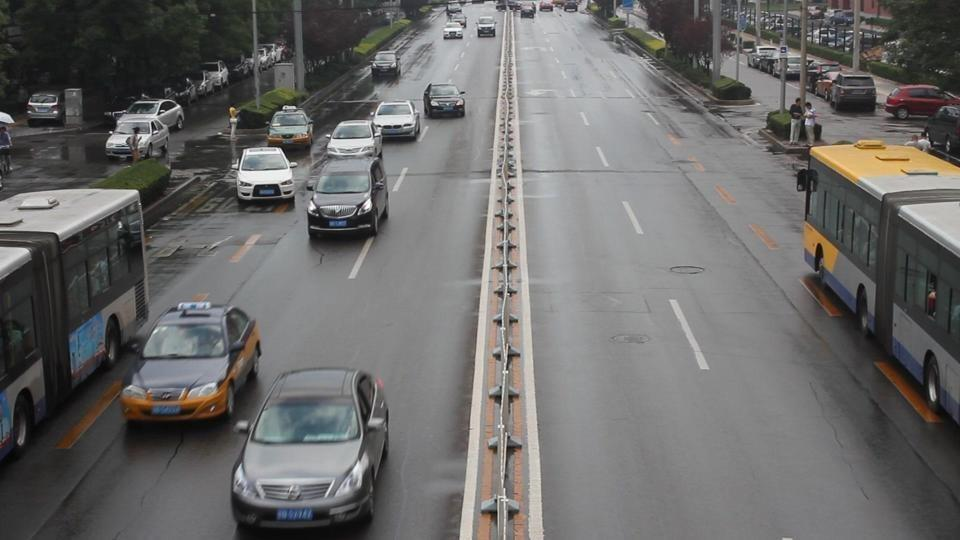car: (229, 367, 391, 531), (118, 298, 262, 427), (305, 156, 390, 239), (265, 115, 381, 158), (235, 145, 296, 208), (105, 116, 171, 162), (883, 84, 959, 120), (327, 119, 385, 160), (265, 108, 314, 154), (923, 105, 960, 162), (122, 99, 185, 132), (827, 71, 877, 112), (371, 101, 422, 141), (423, 82, 466, 120), (25, 91, 65, 127), (748, 45, 787, 74), (812, 61, 843, 92), (371, 51, 400, 84), (782, 56, 806, 80), (476, 15, 497, 38), (443, 21, 464, 40)
